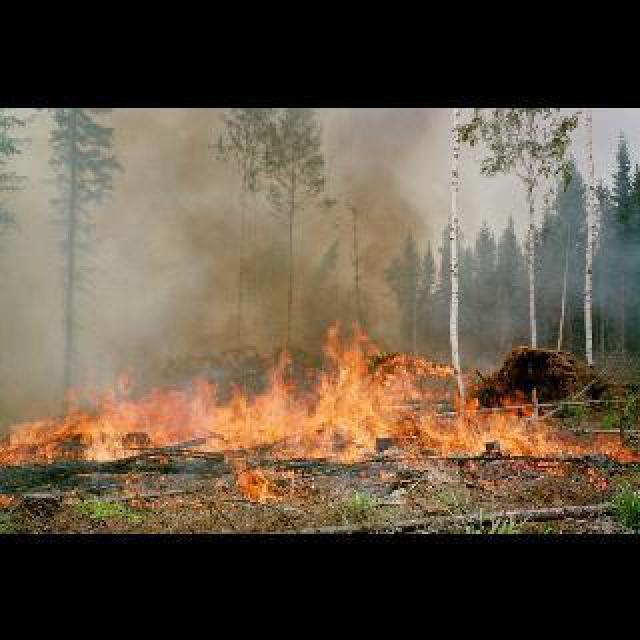fire: (10, 356, 634, 471)
smoke: (49, 113, 518, 346)
